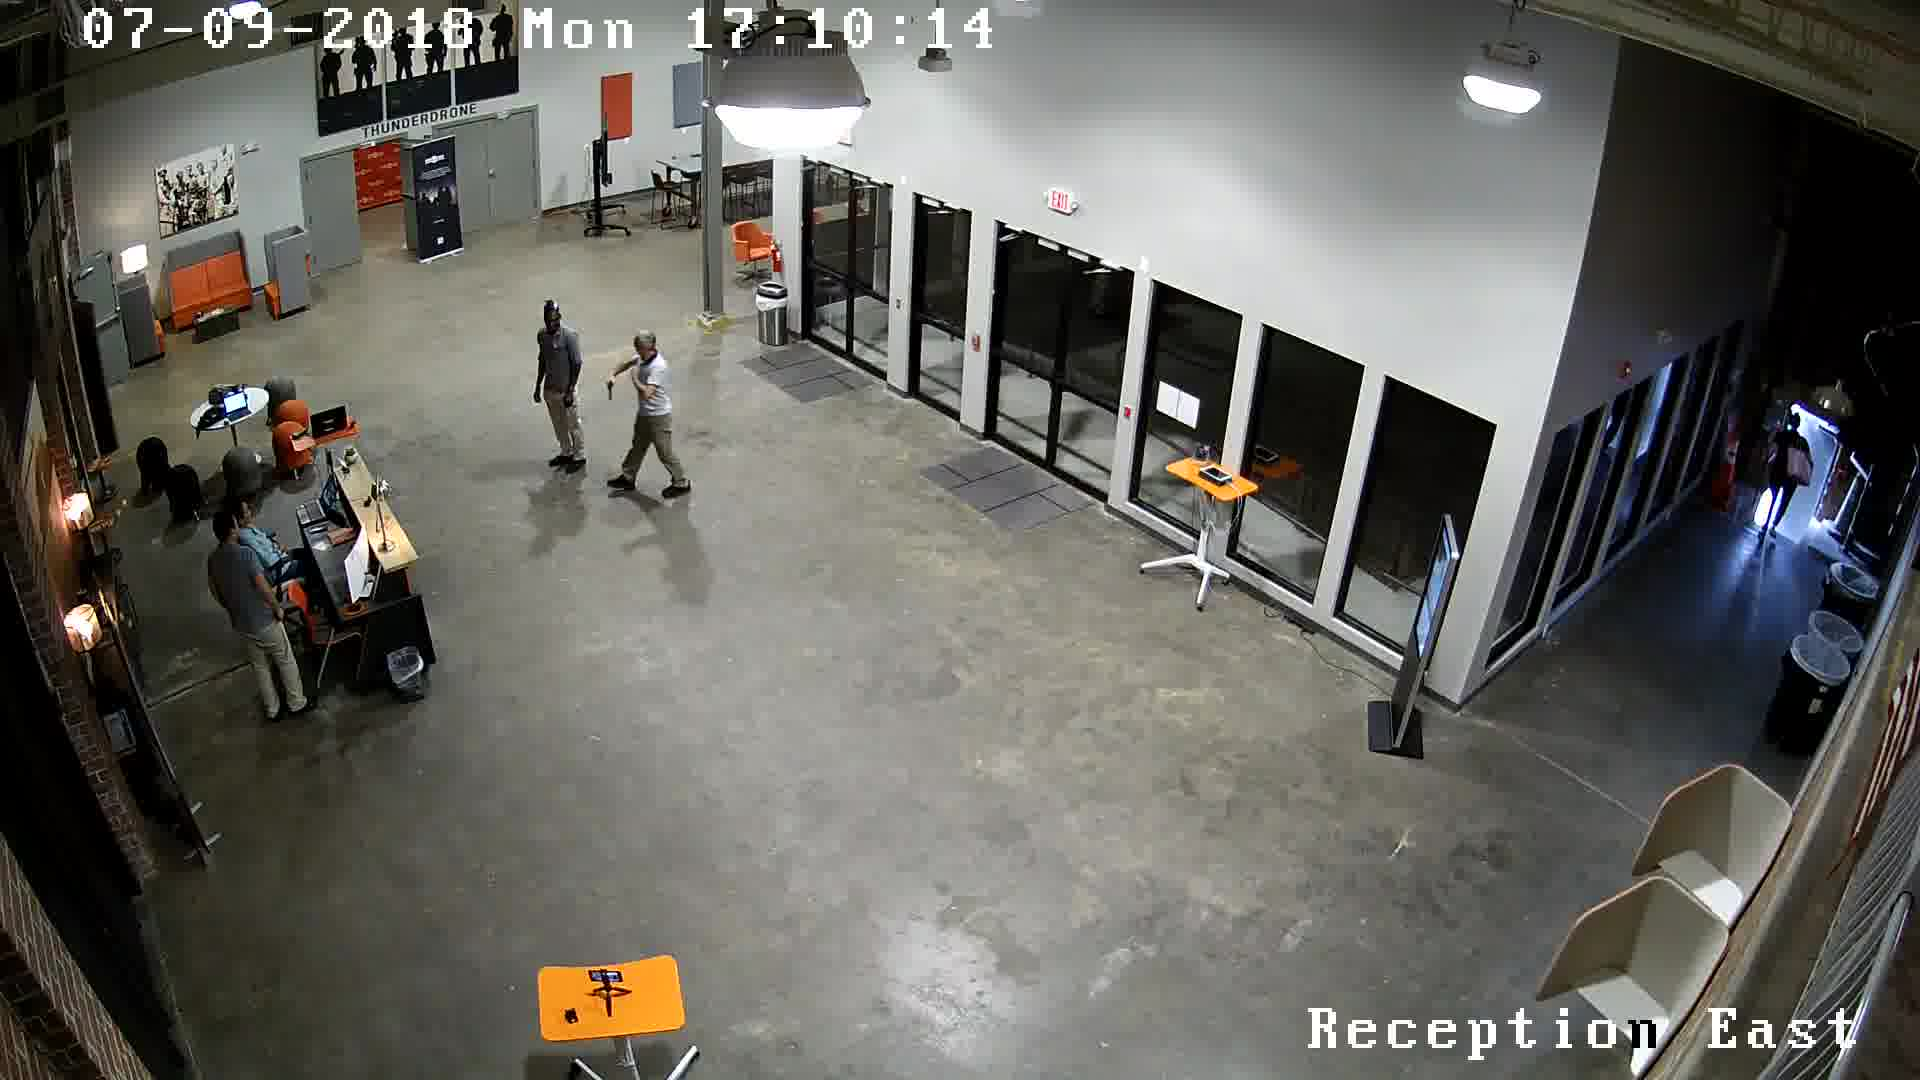pistol: (589, 373, 624, 410)
